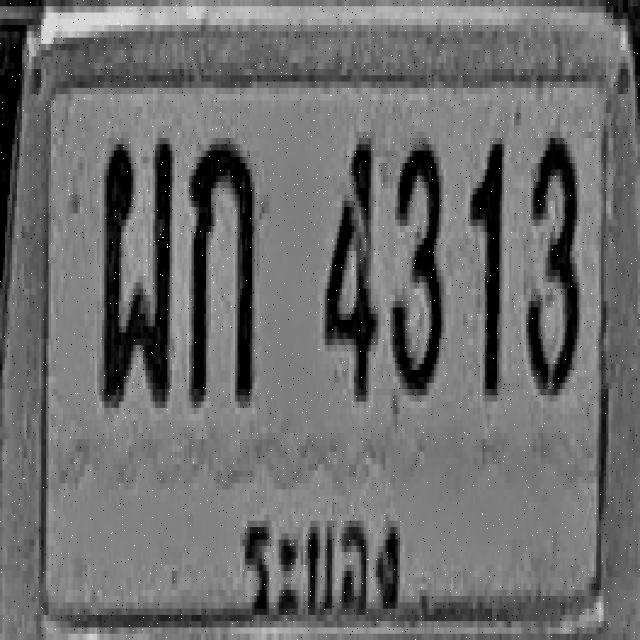1: (469, 137, 503, 396)
10GorGai: (189, 135, 255, 405)
3: (526, 132, 580, 396), (392, 137, 442, 396)
37PhorPhueng: (101, 135, 173, 405)
4: (323, 134, 378, 398)
Rayong: (232, 478, 406, 636)
